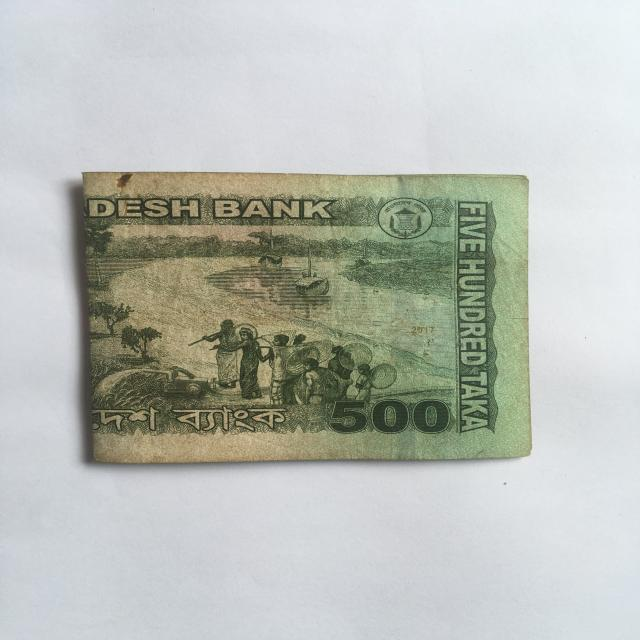Taka: (76, 159, 519, 447)
